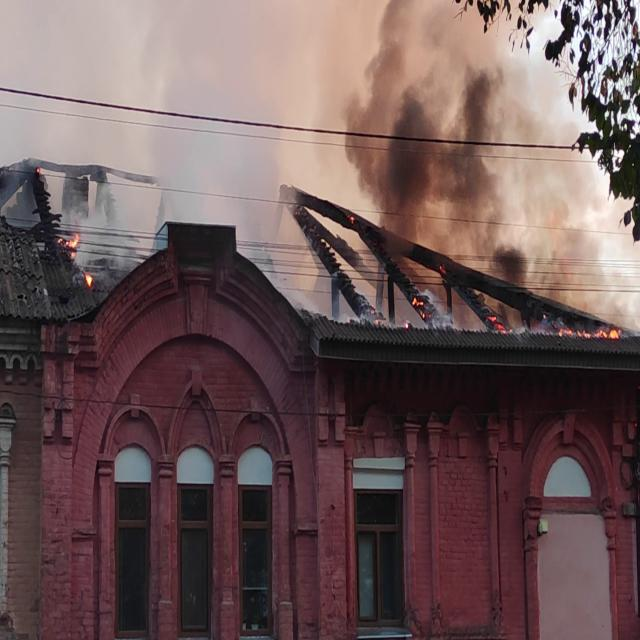fire: (558, 318, 630, 351)
smoke: (379, 91, 423, 242), (451, 76, 491, 233)
